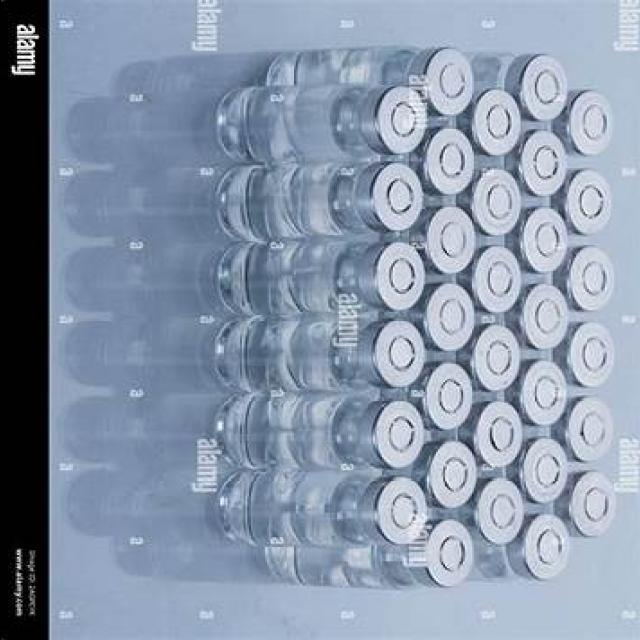vial: (424, 288, 472, 352), (568, 320, 610, 390), (524, 287, 568, 352), (570, 170, 608, 240), (378, 238, 422, 298), (478, 403, 522, 463), (426, 528, 472, 585), (378, 322, 422, 381), (524, 212, 568, 270), (427, 134, 469, 194), (477, 484, 518, 544), (372, 171, 415, 228), (380, 480, 422, 538), (524, 132, 562, 194), (530, 519, 566, 584), (572, 92, 608, 157), (431, 51, 472, 108), (477, 253, 513, 317), (524, 362, 560, 426), (384, 91, 426, 145), (484, 93, 520, 156), (524, 439, 562, 496), (432, 210, 468, 270), (576, 249, 610, 312), (380, 409, 418, 465), (482, 328, 516, 390), (570, 401, 608, 456), (430, 369, 467, 424), (578, 474, 614, 527), (529, 61, 563, 116), (434, 444, 469, 496), (478, 177, 512, 230)
